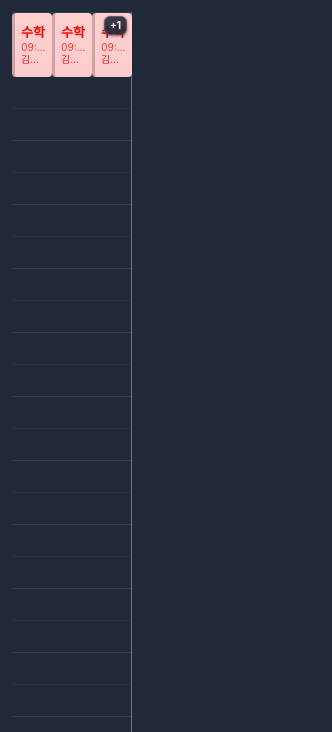
Scenario: TimeTableRow Component › Phase 4: inline overflow expansion › +N chip 클릭 시 overflow popover가 열린다 (숨겨진 세션 직접 드래그 가능)
// Click +N → popover opens (lane expand은 하지 않음)
Step 1. Click the button with test id "overflow-expand-btn-0" → (115, 25), box [104,16,127,34]
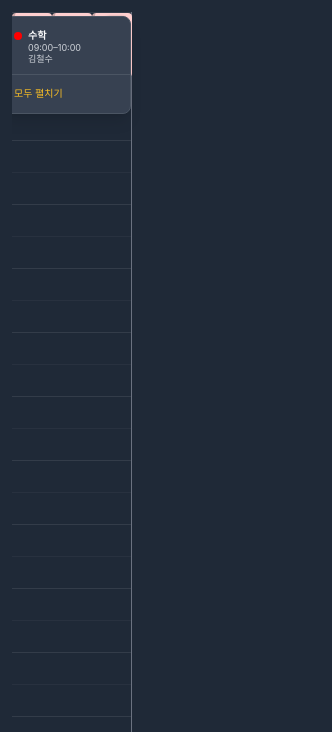
Result: the element with test id "overflow-popover-session-s4" is shown at [14,29,81,64]
